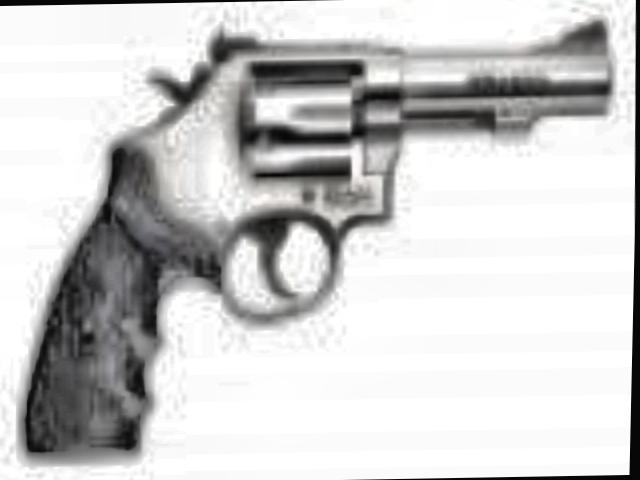pistol: (1, 15, 607, 457)
